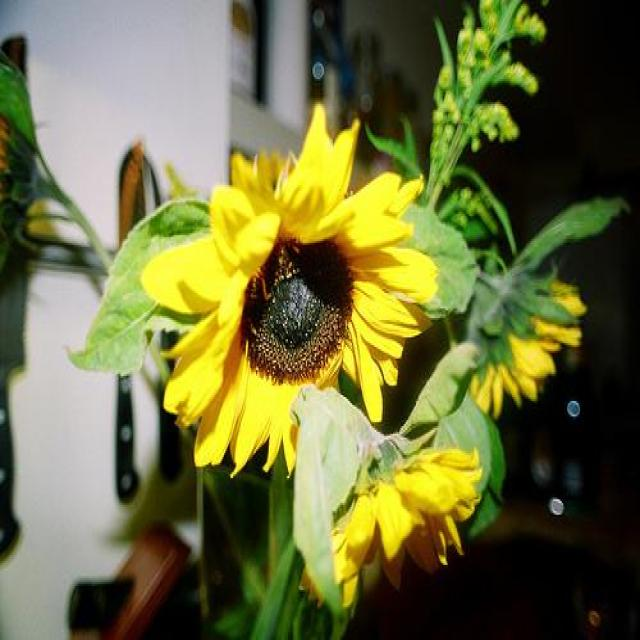sunflower: (142, 101, 439, 475), (302, 448, 481, 606), (465, 272, 586, 417)
